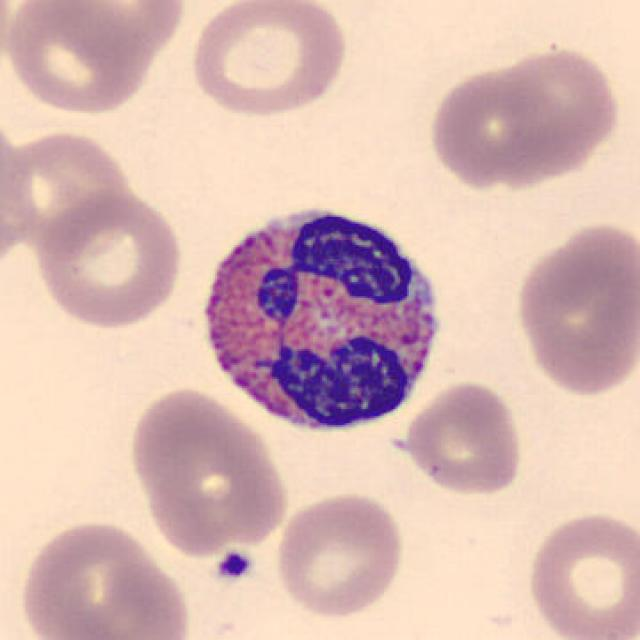Eosinophil: (190, 188, 455, 448)
Platelets: (213, 548, 254, 586)
RBC: (414, 69, 631, 280), (125, 382, 292, 559), (508, 215, 640, 402), (32, 185, 187, 332), (14, 516, 193, 640), (480, 40, 624, 184), (185, 0, 352, 120), (425, 58, 569, 192), (272, 488, 407, 620), (1, 0, 154, 116), (398, 377, 526, 499), (523, 506, 638, 640), (43, 0, 188, 62)
